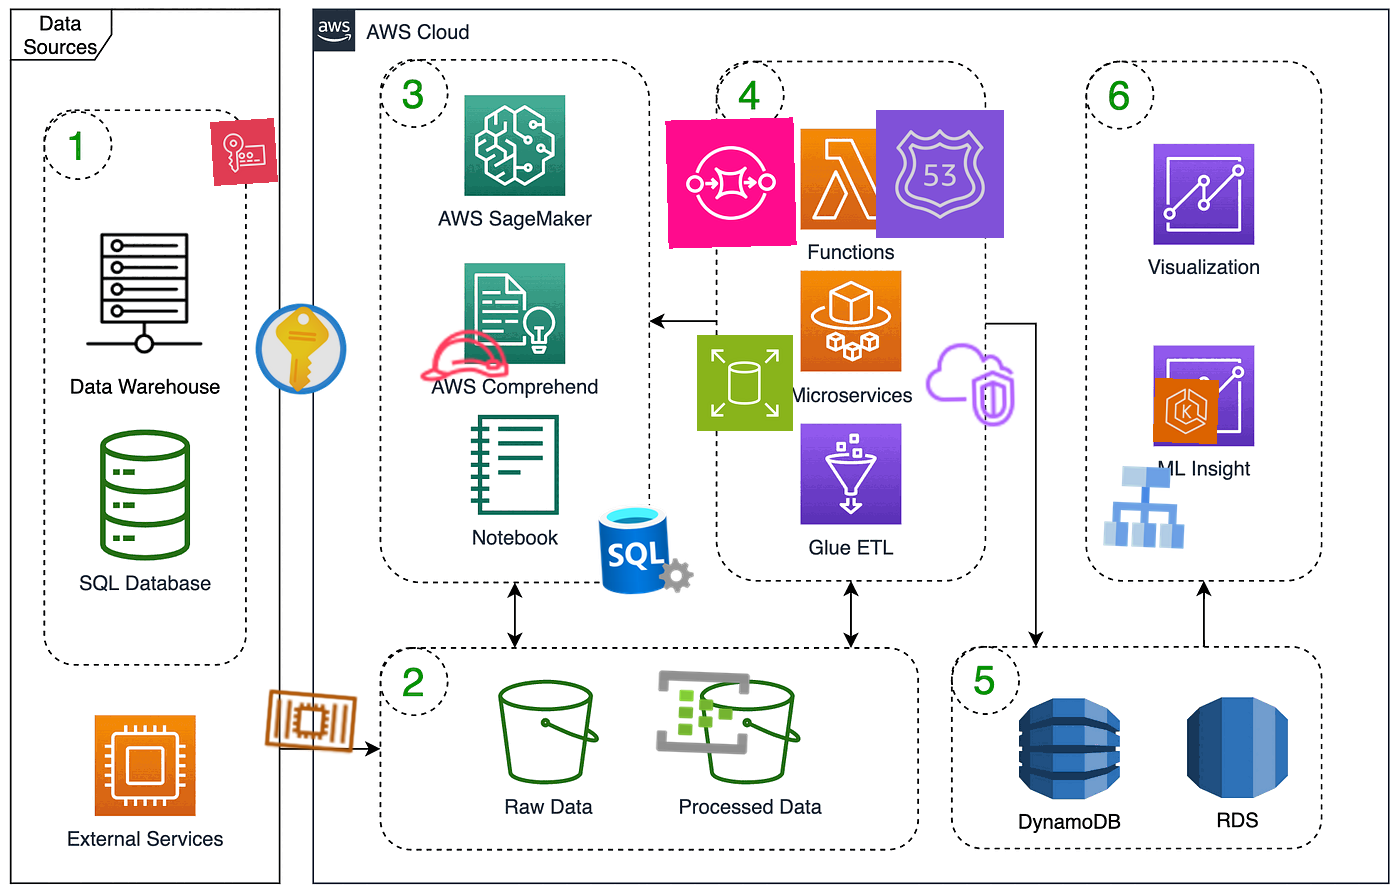aws_amazon_elastic_block_store: (696, 334, 794, 432)
aws_amazon_elastic_kubernetes_service: (1152, 377, 1220, 445)
aws_amazon_route_53: (876, 109, 1005, 239)
aws_amazon_simple_queue_service: (665, 117, 797, 249)
aws_elastic_container_service_container_2: (259, 669, 363, 773)
aws_identity_access_management_role: (415, 307, 513, 405)
aws_key_management_service: (210, 118, 278, 186)
aws_vpc_virtual_private_cloud_vpc: (920, 335, 1020, 435)
azure_event_hubs: (653, 662, 753, 762)
azure_key_vaults: (249, 297, 353, 401)
azure_sql_server: (595, 498, 697, 600)
gcp_cloud_load_balancing: (1095, 457, 1195, 557)
